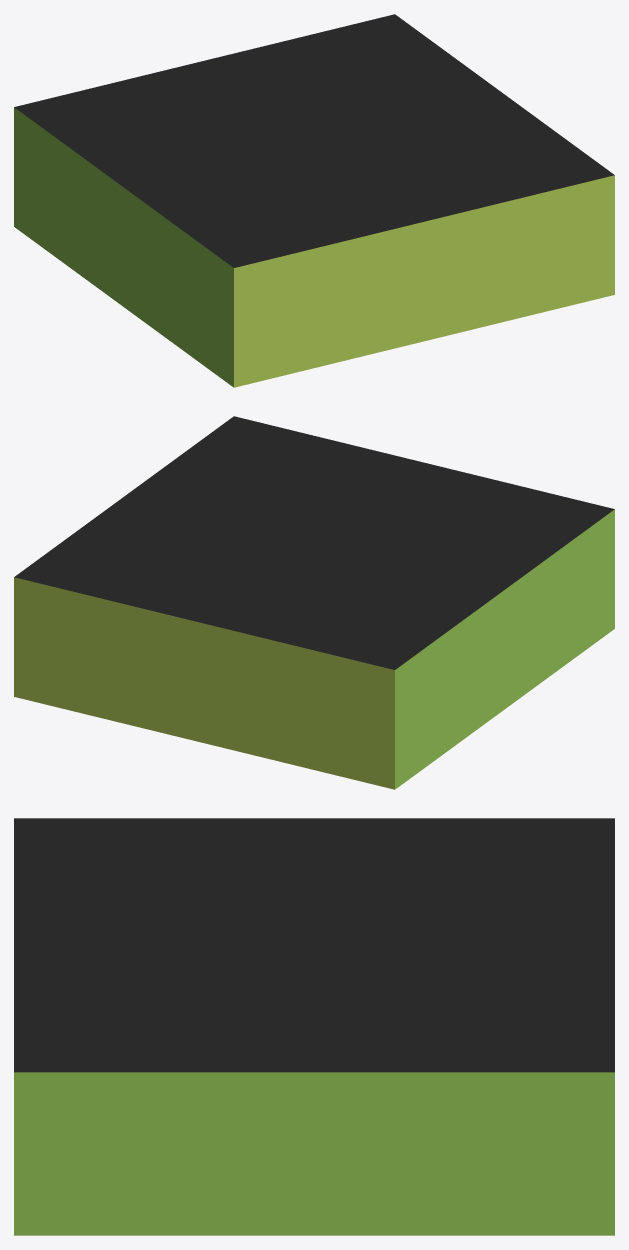
File: floor_road7.fbx
3 renders of one model, top to bottom at view 1: azimuth 30°, elevation 25°; view 2: azimuth 150°, elevation 25°; view 3: azimuth 270°, elevation 25°, orthographic. The views are drawn at different scales.
Visible parts, largest first — view 1: floor_road7; view 2: floor_road7; view 3: floor_road7.
Boxes of the visible parts, bbox=[...] form: floor_road7: bbox=[14, 14, 614, 387]; floor_road7: bbox=[14, 416, 614, 789]; floor_road7: bbox=[14, 818, 614, 1235].
Size of the model in its own units: 100 by 30 by 100.
